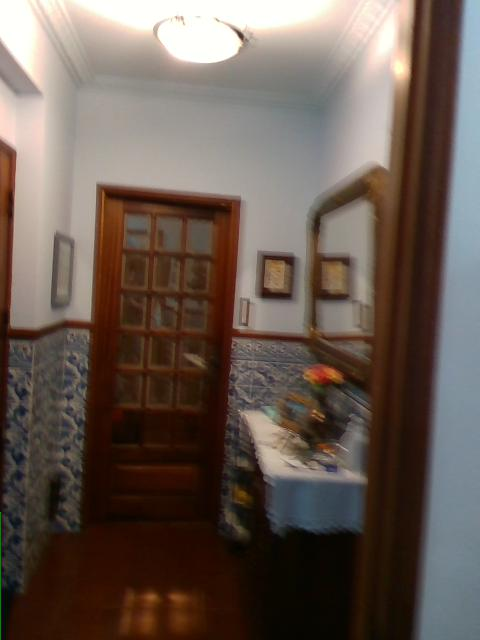door: (83, 181, 241, 524)
